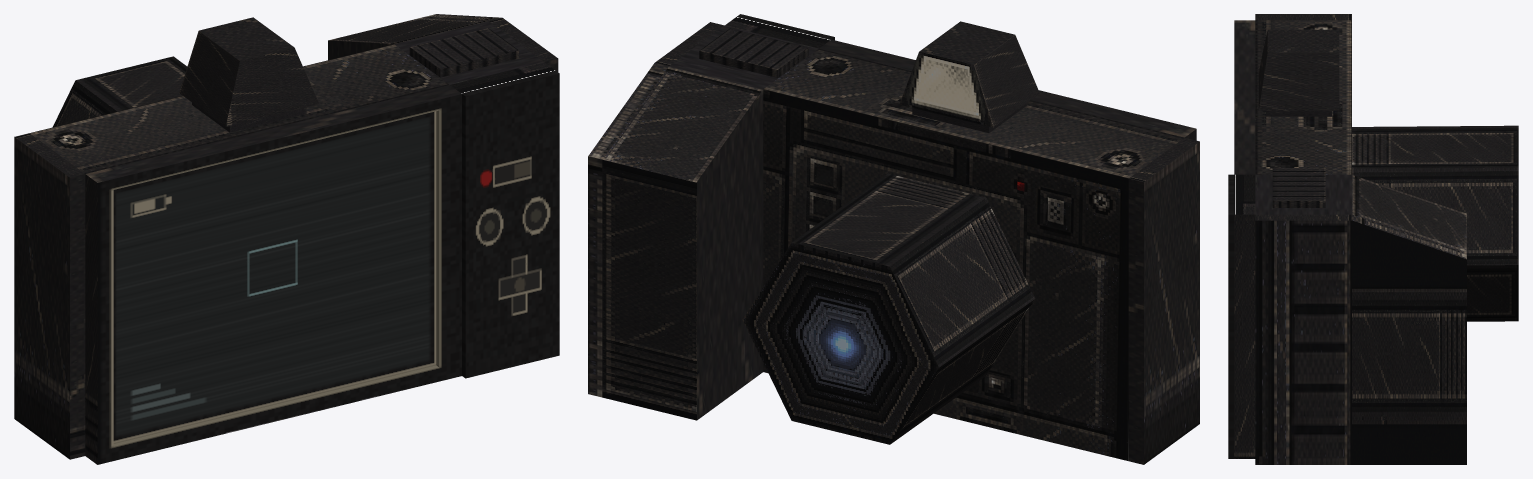
File: cam1.glb
3 renders of one model, left to right at view 1: azimuth 30°, elevation 25°; view 2: azimuth 150°, elevation 25°; view 3: azimuth 270°, elevation 25°, orthographic. The views are drawn at different scales.
Parts seen in each view (by area): view 1: body, flash, barrel, shutter; view 2: body, barrel, flash, shutter; view 3: body, barrel, flash, shutter.
Boxes of the visible parts, x1,y1,x2,y2 form: body: (14, 14, 559, 464); flash: (179, 17, 318, 132); barrel: (52, 56, 187, 127); shutter: (409, 28, 518, 77); body: (588, 14, 1199, 464); barrel: (742, 173, 1035, 444); flash: (899, 21, 1039, 132); shutter: (699, 28, 808, 77); body: (1228, 14, 1466, 464); barrel: (1352, 125, 1518, 321); flash: (1258, 29, 1339, 116); shutter: (1272, 168, 1325, 207).
Bounding box in the file's own units: 3.62 × 2.49 × 2.15.
Materials: 4 (4 with a texture image).
